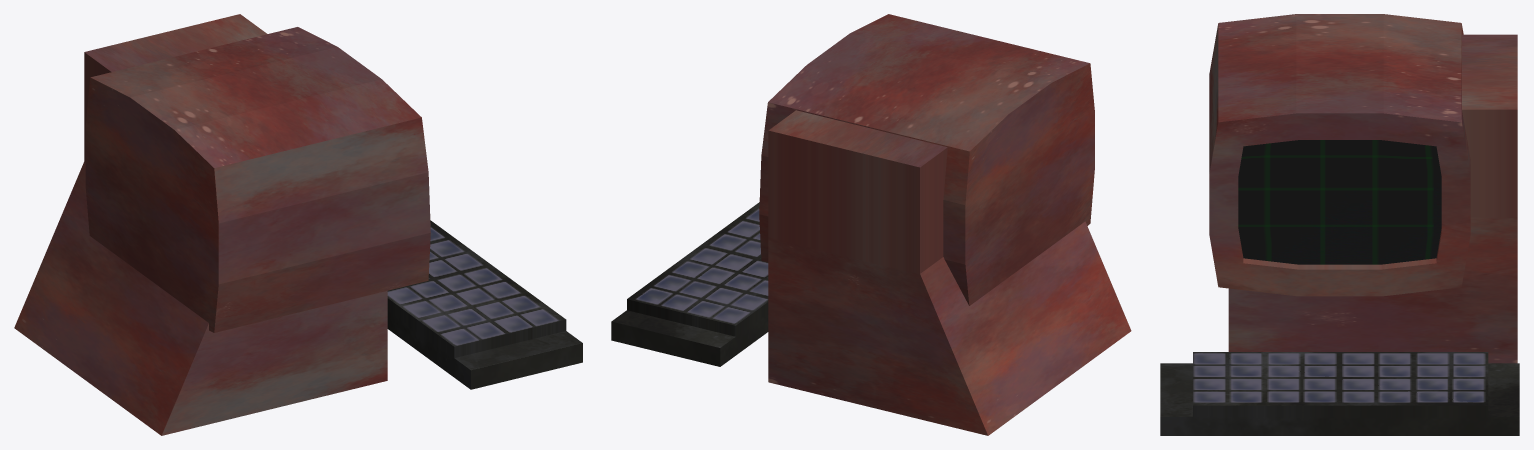
The model's file is Computer.obj.
The picture shows the model from 3 angles, left to right: view 1: azimuth 30°, elevation 25°; view 2: azimuth 150°, elevation 25°; view 3: azimuth 270°, elevation 25°; orthographic projection. The views are drawn at different scales.
Visible parts, largest first — view 1: Cube.001; view 2: Cube.001; view 3: Cube.001.
Boxes of the visible parts, bbox=[...] form: Cube.001: bbox=[14, 14, 582, 435]; Cube.001: bbox=[611, 14, 1131, 435]; Cube.001: bbox=[1160, 14, 1519, 435].
Bounding box in the file's own units: 1.08 × 0.72 × 0.8877.
Materials: 3 (3 with a texture image).
